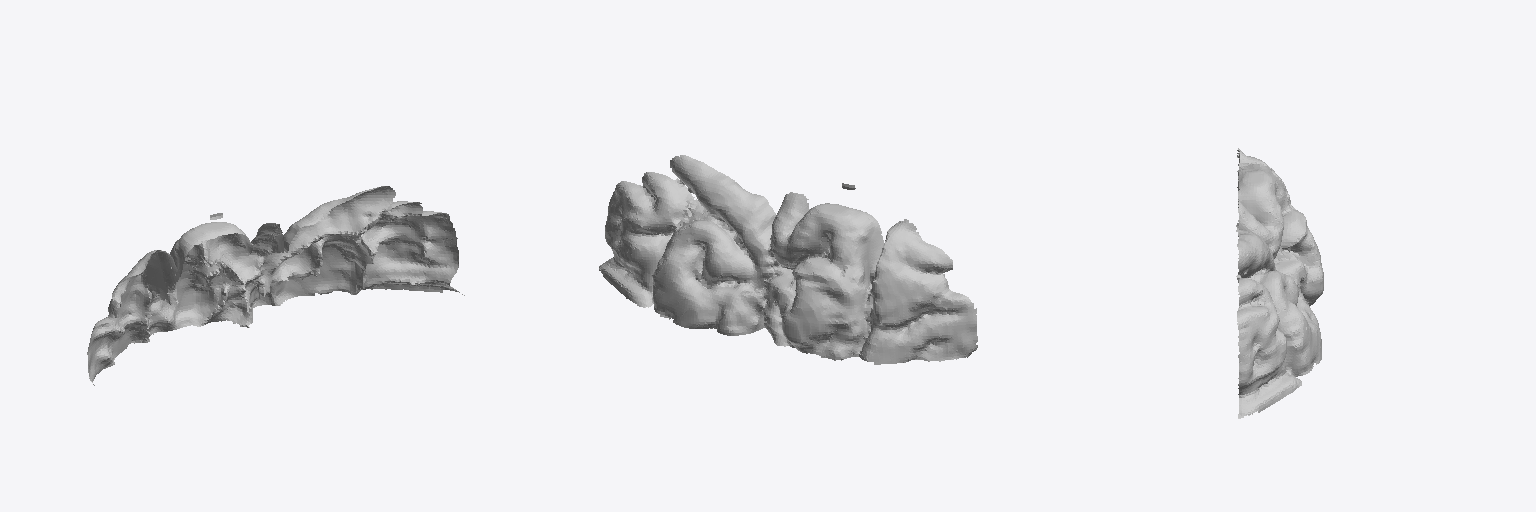
The model's file is cortex_2_4.obj.
The picture shows the model from 3 angles: view 1: azimuth 30°, elevation 25°; view 2: azimuth 150°, elevation 25°; view 3: azimuth 270°, elevation 25°; orthographic projection.
Visible parts, largest first — view 1: Cortex_2_4_Mehrdad_SagT1_Cortex_v1_No_Smooth_OBJ.000_Mehrdad_Sa; view 2: Cortex_2_4_Mehrdad_SagT1_Cortex_v1_No_Smooth_OBJ.000_Mehrdad_Sa; view 3: Cortex_2_4_Mehrdad_SagT1_Cortex_v1_No_Smooth_OBJ.000_Mehrdad_Sa.
Boxes of the visible parts, x1,y1,x2,y2 form: Cortex_2_4_Mehrdad_SagT1_Cortex_v1_No_Smooth_OBJ.000_Mehrdad_Sa: [87, 186, 464, 385]; Cortex_2_4_Mehrdad_SagT1_Cortex_v1_No_Smooth_OBJ.000_Mehrdad_Sa: [599, 155, 977, 364]; Cortex_2_4_Mehrdad_SagT1_Cortex_v1_No_Smooth_OBJ.000_Mehrdad_Sa: [1236, 148, 1323, 418].
Bounding box in the file's own units: 100 × 36.47 × 20.24.